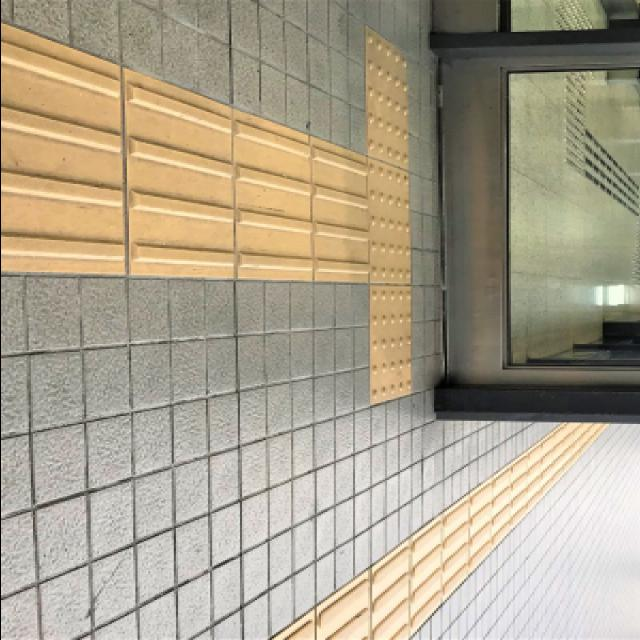tactile-guide-path: (2, 24, 369, 286), (264, 421, 608, 638), (367, 29, 412, 408), (582, 129, 639, 218), (561, 70, 589, 178), (553, 0, 593, 34)
